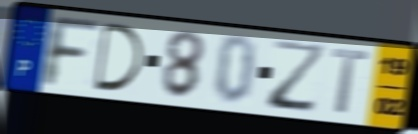0: (214, 34, 259, 107)
8: (161, 29, 206, 102)
D: (92, 20, 146, 94)
F: (42, 12, 102, 90)
T: (330, 47, 372, 116)
Z: (266, 38, 328, 116)
